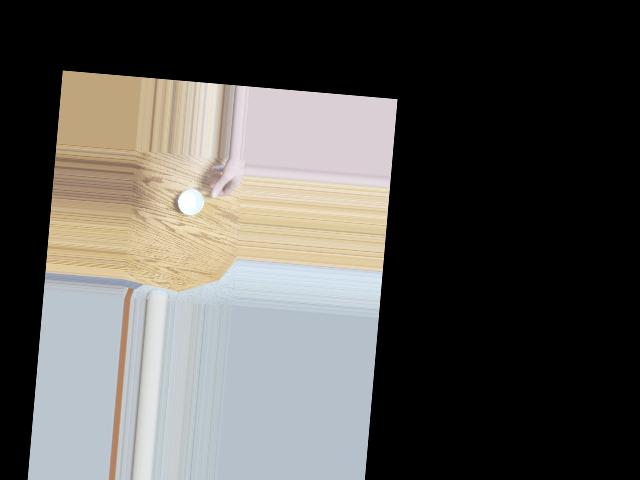cotage: (177, 181, 207, 216)
